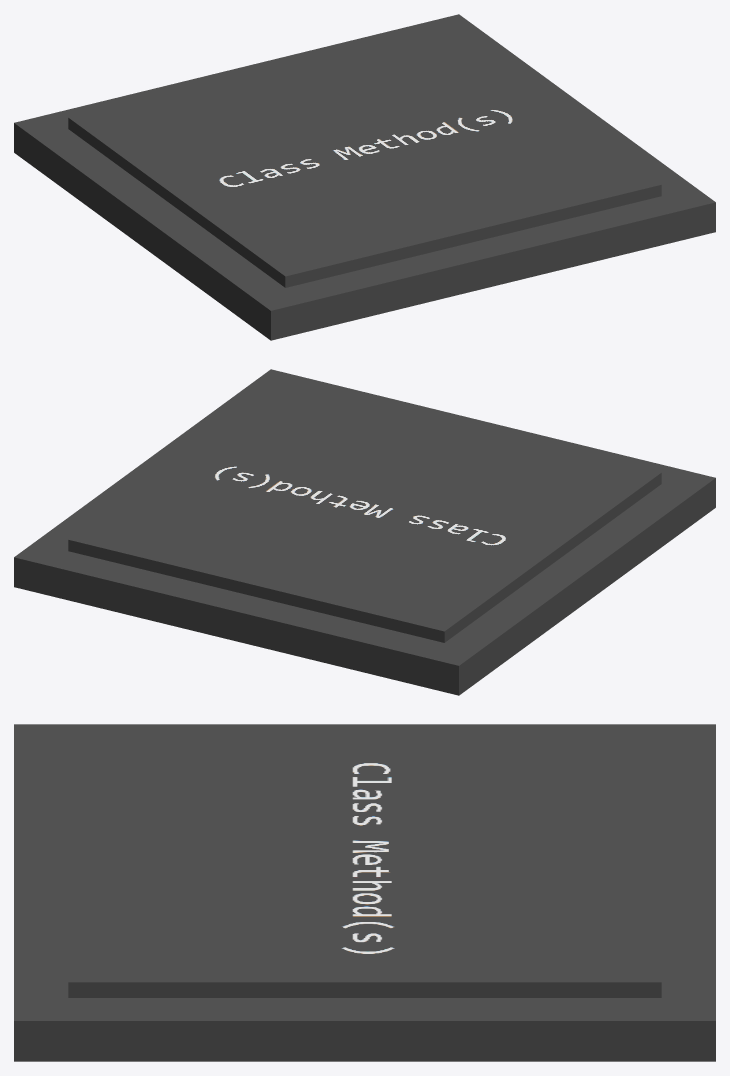
Rendered from lvl1-tile3.fbx.
The picture shows the model from 3 angles, top to bottom: view 1: azimuth 30°, elevation 25°; view 2: azimuth 150°, elevation 25°; view 3: azimuth 270°, elevation 25°; orthographic projection. The views are drawn at different scales.
Visible parts, largest first — view 1: Cube; view 2: Cube; view 3: Cube.
Boxes of the visible parts, x1,y1,x2,y2 form: Cube: (14, 14, 715, 340); Cube: (14, 369, 715, 695); Cube: (14, 724, 715, 1061).
Bounding box in the file's own units: 200 × 17.74 × 200.
